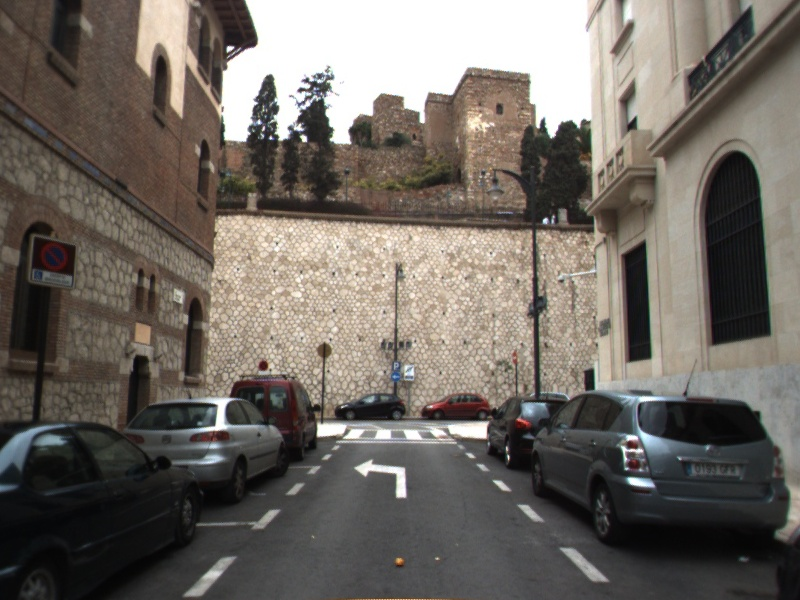LEFT: (352, 457, 409, 499)
